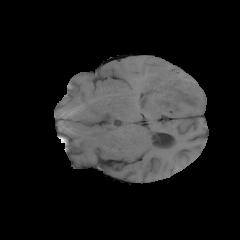glioma: (139, 65, 205, 134)
